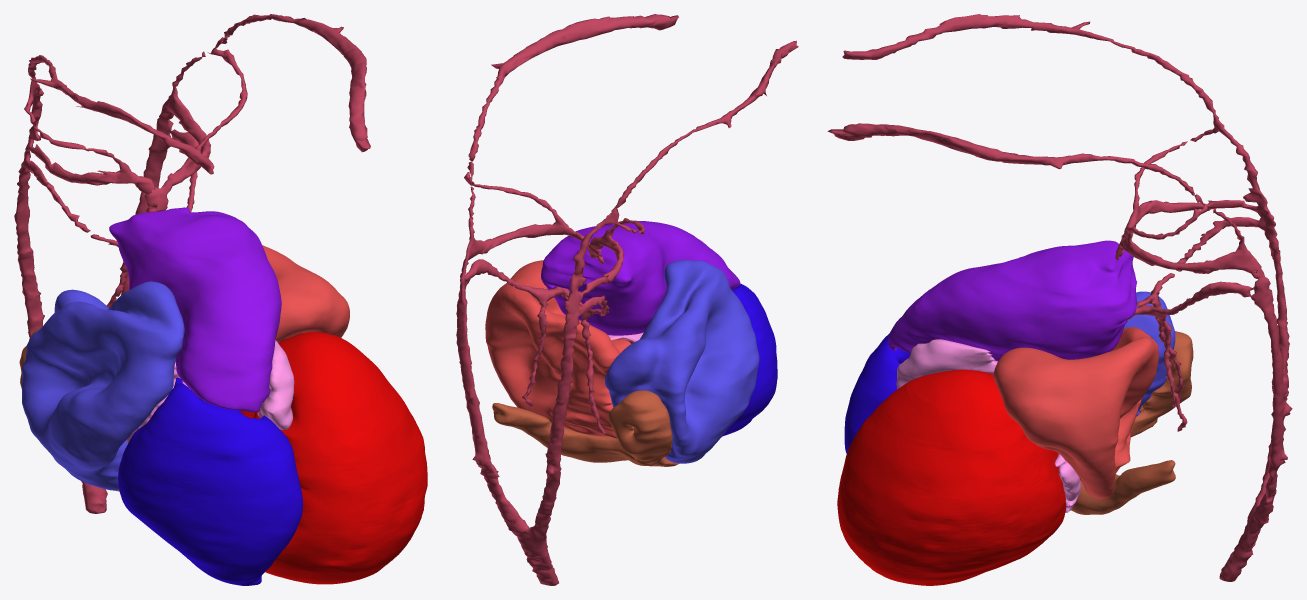
The model's file is CS16-1815-heart2.glb.
3 views of the same model, side by side, from view 1: azimuth 30°, elevation 25°; view 2: azimuth 150°, elevation 25°; view 3: azimuth 270°, elevation 25° (orthographic). The views are drawn at different scales.
Visible parts, largest first — view 1: left-vent, right-vent, right-atrium2., oft, aorta, left-atrium, epicardium; view 2: aorta, right-atrium2., left-atrium, oft, sinus-venosus-vena-cava2, right-vent; view 3: left-vent, aorta, oft, left-atrium, sinus-venosus-vena-cava2, epicardium, right-vent, right-atrium2..
Boxes of the visible parts, x1,y1,x2,y2 form: left-vent: (240, 332, 427, 584); right-vent: (118, 377, 302, 585); right-atrium2.: (22, 281, 184, 490); oft: (109, 207, 281, 412); aorta: (14, 14, 370, 513); left-atrium: (262, 245, 349, 342); epicardium: (127, 340, 294, 444); aorta: (456, 14, 798, 585); right-atrium2.: (605, 260, 759, 463); left-atrium: (485, 260, 631, 438); oft: (541, 220, 740, 335); sinus-venosus-vena-cava2: (492, 390, 678, 466); right-vent: (722, 283, 777, 436); left-vent: (837, 369, 1065, 585); aorta: (827, 14, 1292, 581); oft: (888, 240, 1136, 361); left-atrium: (993, 327, 1158, 499); sinus-venosus-vena-cava2: (1062, 331, 1193, 514); epicardium: (896, 339, 1080, 512); right-vent: (844, 333, 910, 453); right-atrium2.: (1123, 291, 1175, 416).
Bounding box in the file's own units: 237 × 388 × 323.
